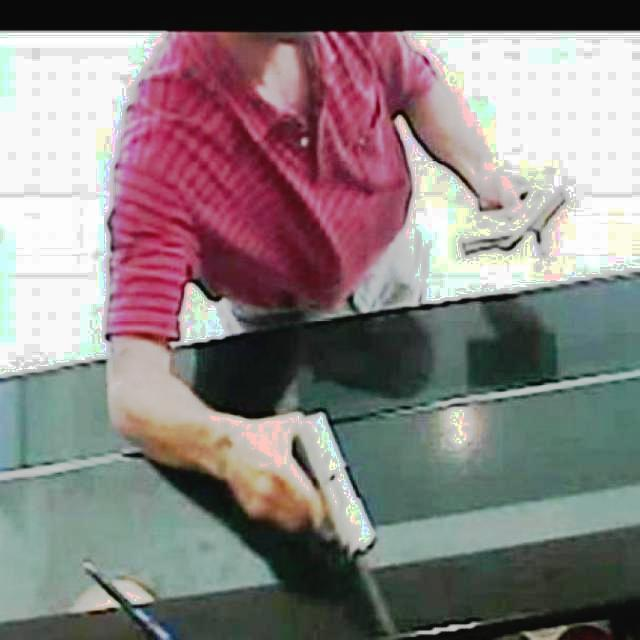Gun: (284, 396, 388, 579)
